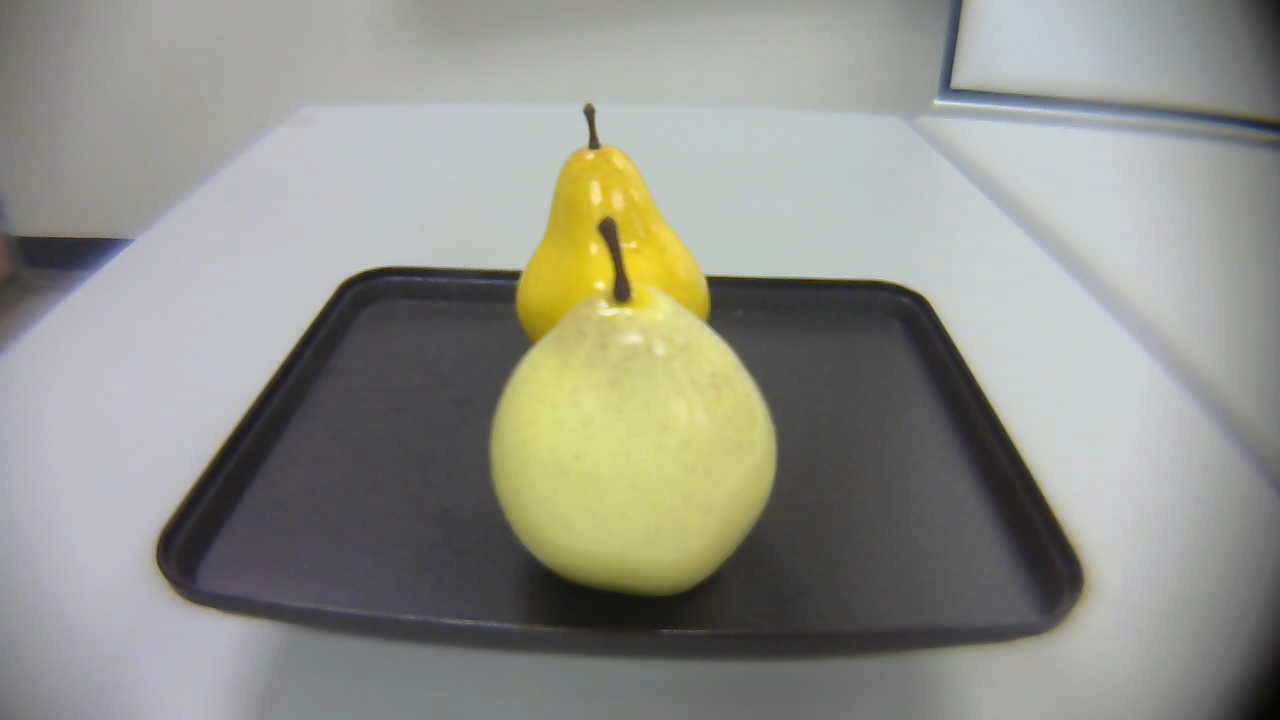western pear: (491, 216, 780, 605)
yellow pear: (514, 98, 723, 380)
